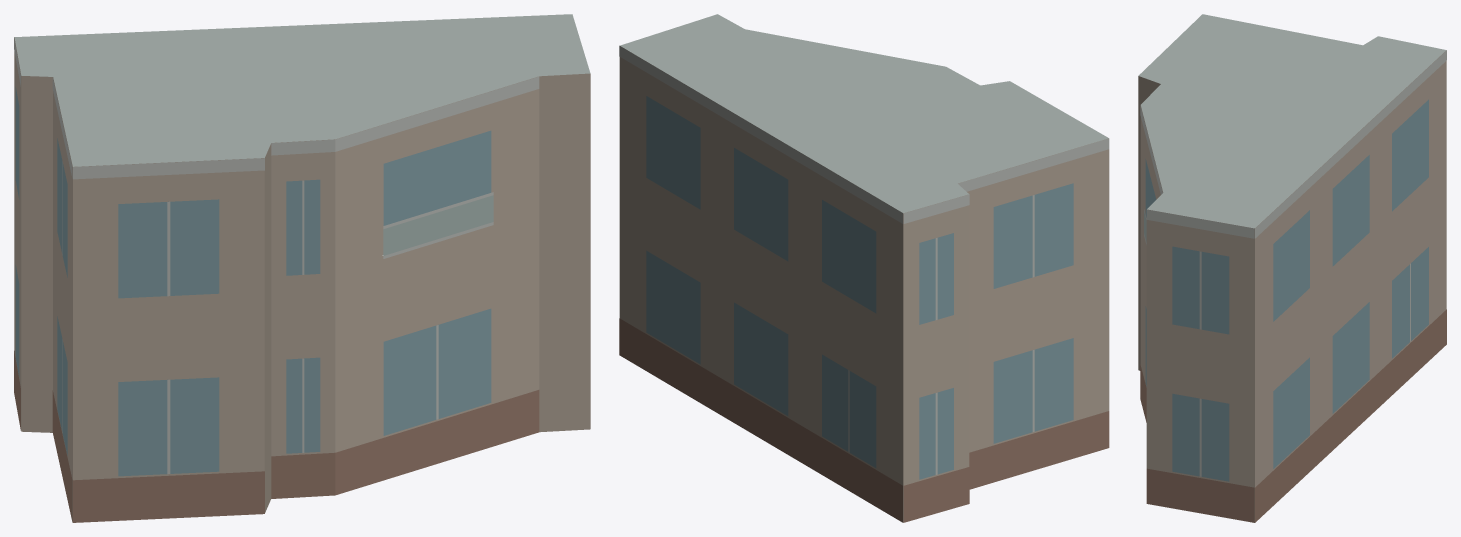
File: survey-upis-32517307.glb
3 views of the same model, side by side, from view 1: azimuth 30°, elevation 25°; view 2: azimuth 150°, elevation 25°; view 3: azimuth 270°, elevation 25° (orthographic). The views are drawn at different scales.
Parts seen in each view (by area): view 1: survey-upis-32517307.tmp; view 2: survey-upis-32517307.tmp; view 3: survey-upis-32517307.tmp.
Boxes of the visible parts, left/top/right/bottom form: survey-upis-32517307.tmp: left=14, top=14, right=590, bottom=522; survey-upis-32517307.tmp: left=619, top=14, right=1109, bottom=522; survey-upis-32517307.tmp: left=1138, top=14, right=1446, bottom=522.
Size of the model in its own units: 10.79 by 6.9 by 6.56.
